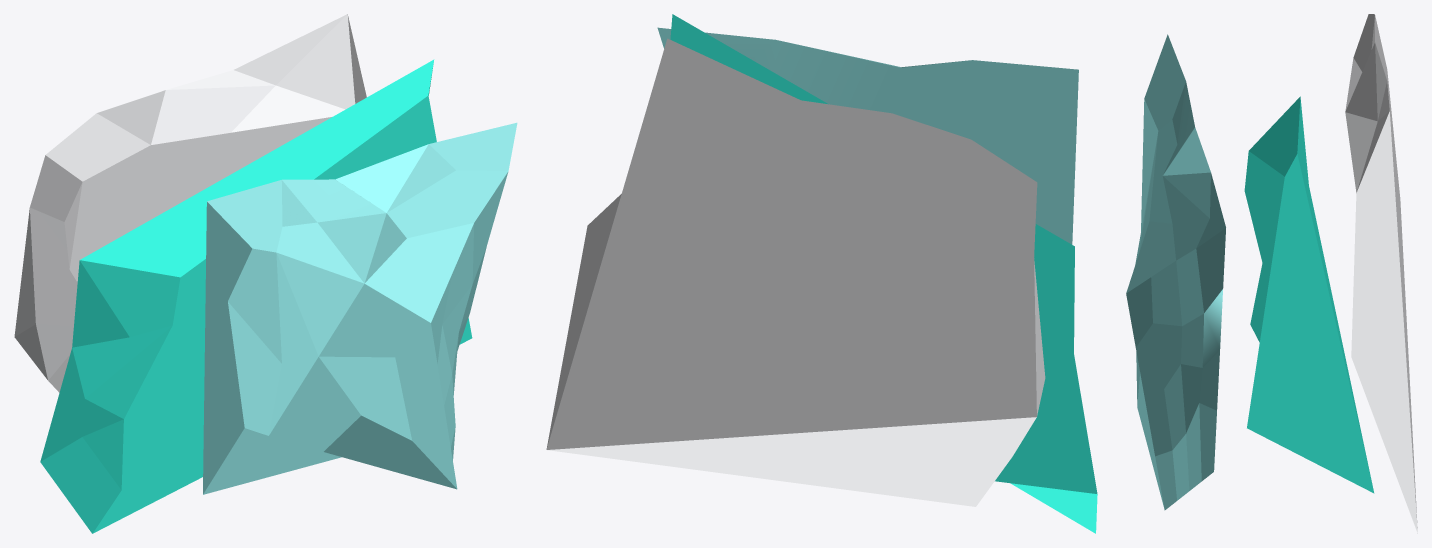
The model's file is one1.glb.
The picture shows the model from 3 angles, left to right: view 1: azimuth 30°, elevation 25°; view 2: azimuth 150°, elevation 25°; view 3: azimuth 270°, elevation 25°; orthographic projection. The views are drawn at different scales.
Parts seen in each view (by area): view 1: Cube.003, Cube.001, Cube.002; view 2: Cube.002, Cube.003, Cube.001; view 3: Cube.003, Cube.001, Cube.002.
Part boxes in pixels (x1,y1,x2,y2): Cube.003: [203, 122, 517, 494]; Cube.001: [40, 59, 472, 533]; Cube.002: [14, 14, 366, 392]; Cube.002: [546, 38, 1045, 506]; Cube.003: [657, 27, 1078, 244]; Cube.001: [670, 14, 1097, 533]; Cube.003: [1126, 34, 1225, 510]; Cube.001: [1244, 96, 1374, 493]; Cube.002: [1345, 14, 1417, 533].
Size of the model in its own units: 2.34 by 2.06 by 1.34.
